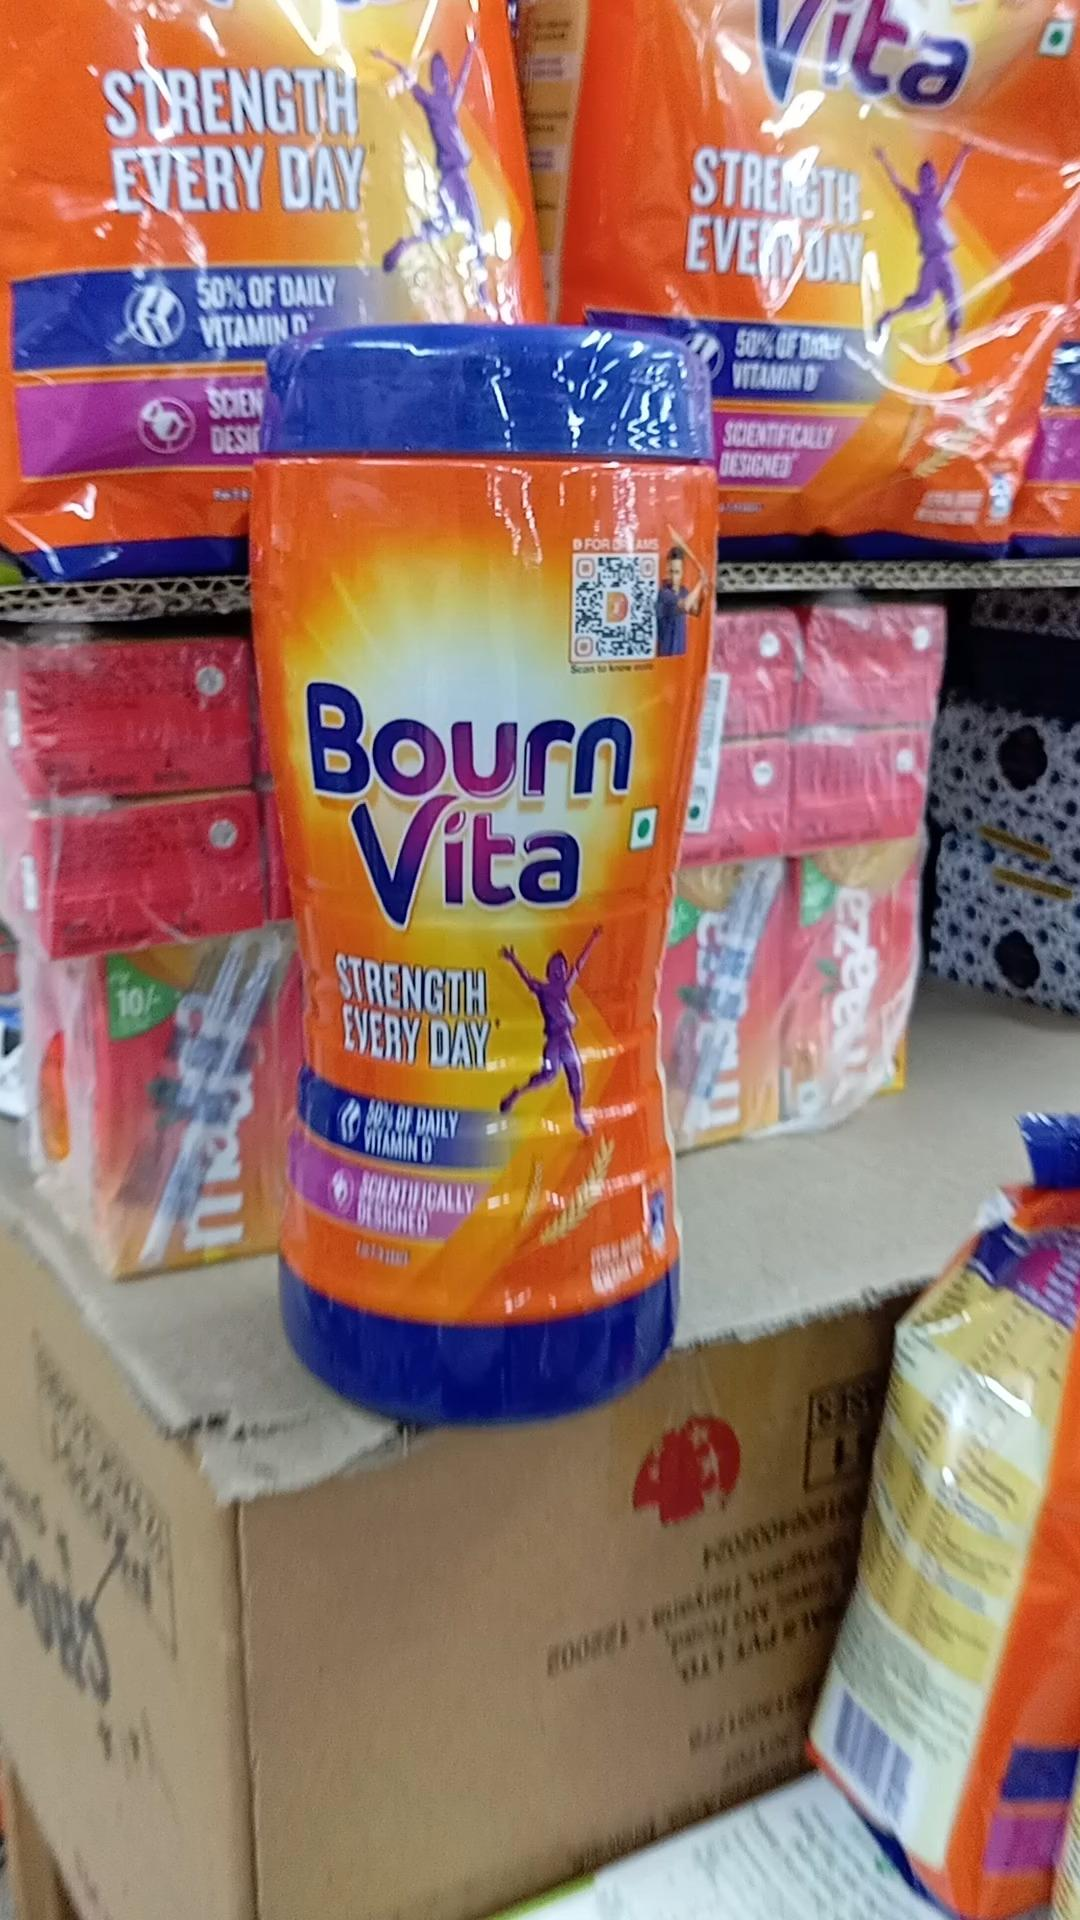BOURN_VITA_500_G_JAR: (256, 311, 684, 1435)
